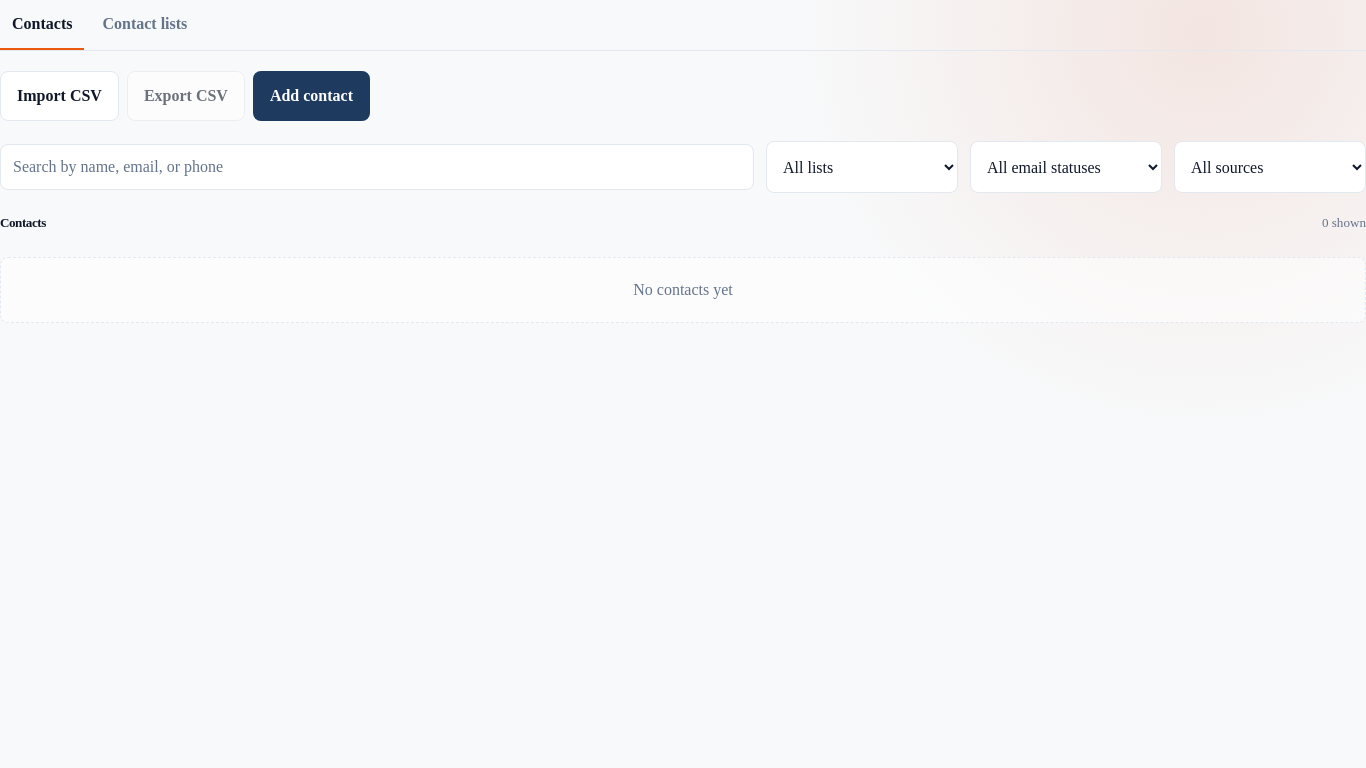
ContactsPage list synchronization (#168) › updates list count and rows immediately after creating a contact without manual reload
The width and height of the screenshot is (1366, 768).
Expected: the text "0 shown" is shown, [1322,213,1365,233]
Expected: the text "No contacts yet" is shown, [0,257,1365,323]
Step 1. Click the button "Add contact" → (311, 96), box [253,71,370,121]
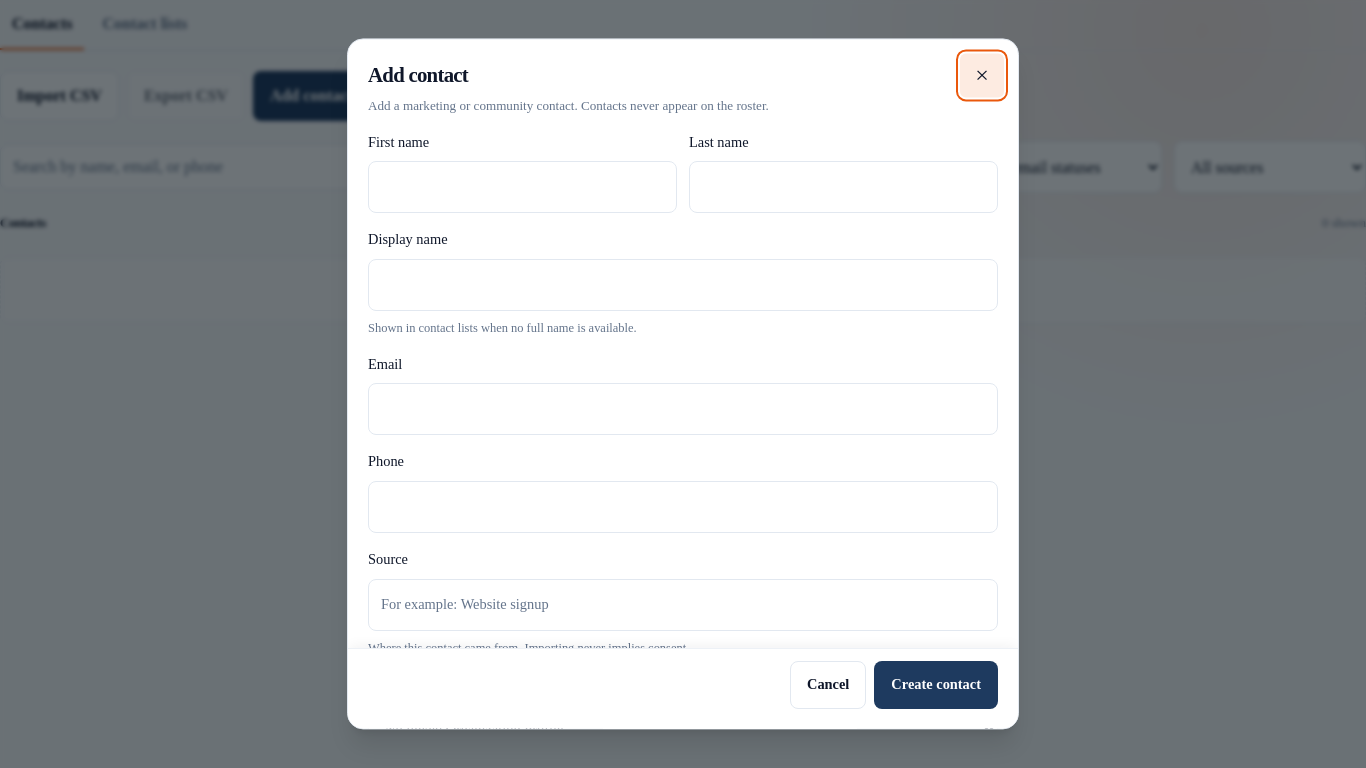
Expected: the dialog "Add contact" is shown, [347,38,1019,730]
Step 2. Type "Alice" into the field labelled "First name" → (522, 188), box [368,162,677,214]
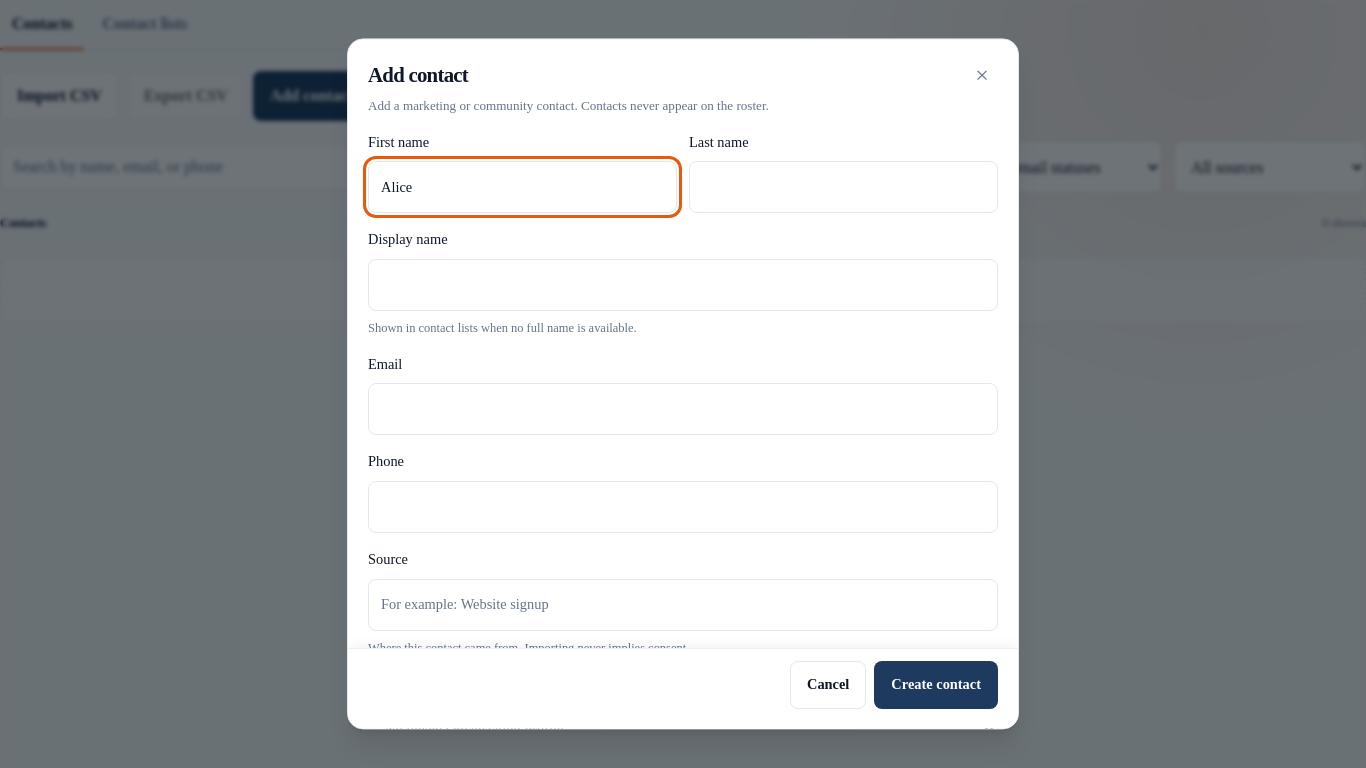
Step 3. Type "Allison" into the field labelled "Last name" → (844, 188), box [689,162,998,214]
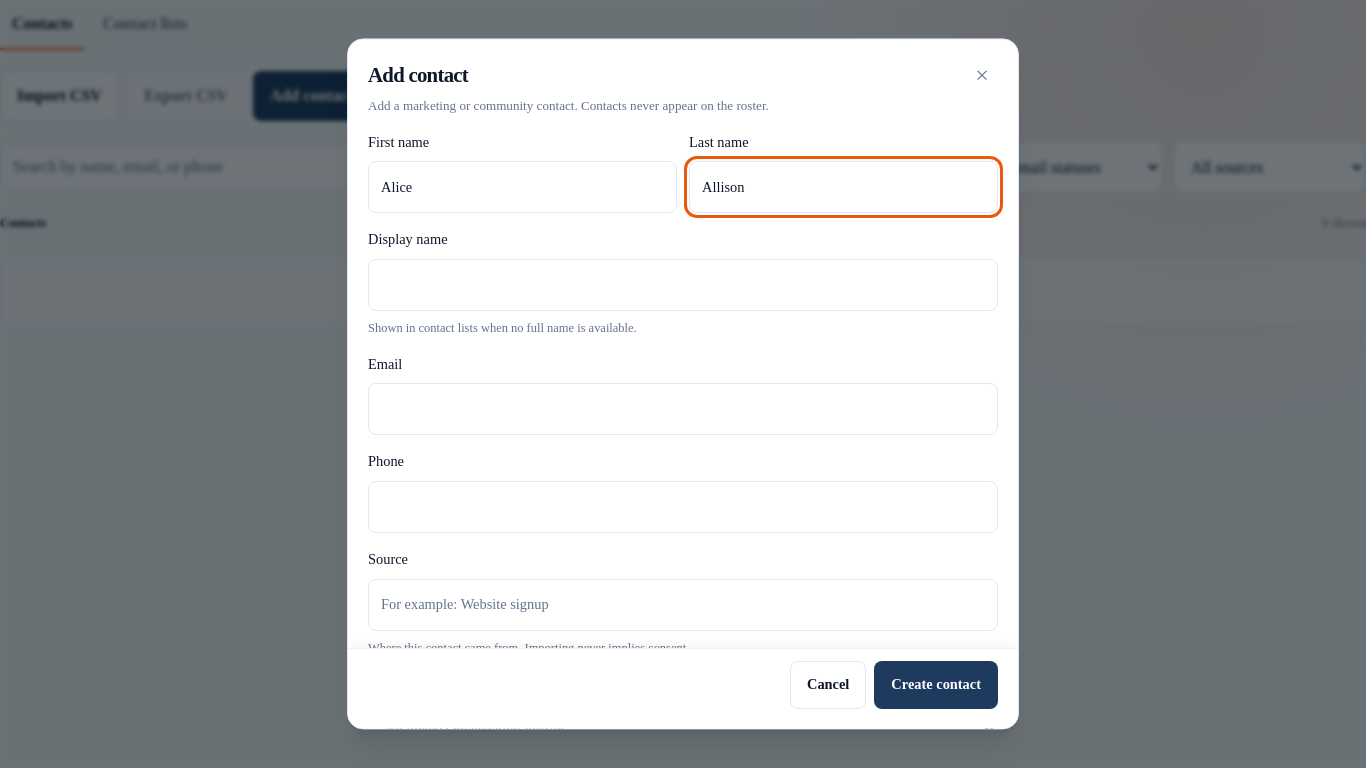
Step 4. Type "alice@example.com" into the field labelled "Email" → (683, 410), box [368,384,998,436]
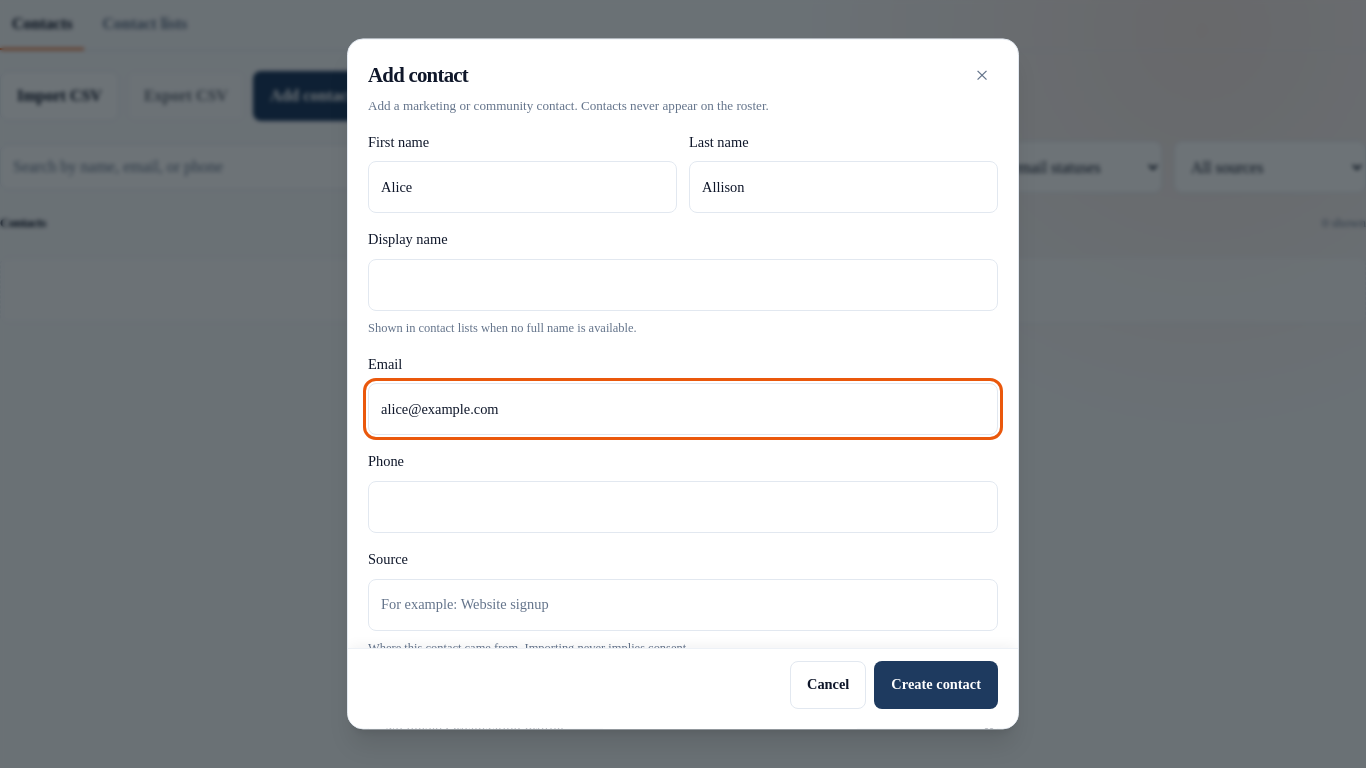
Step 5. Click the button "Create contact" → (936, 685), box [874,661,998,709]
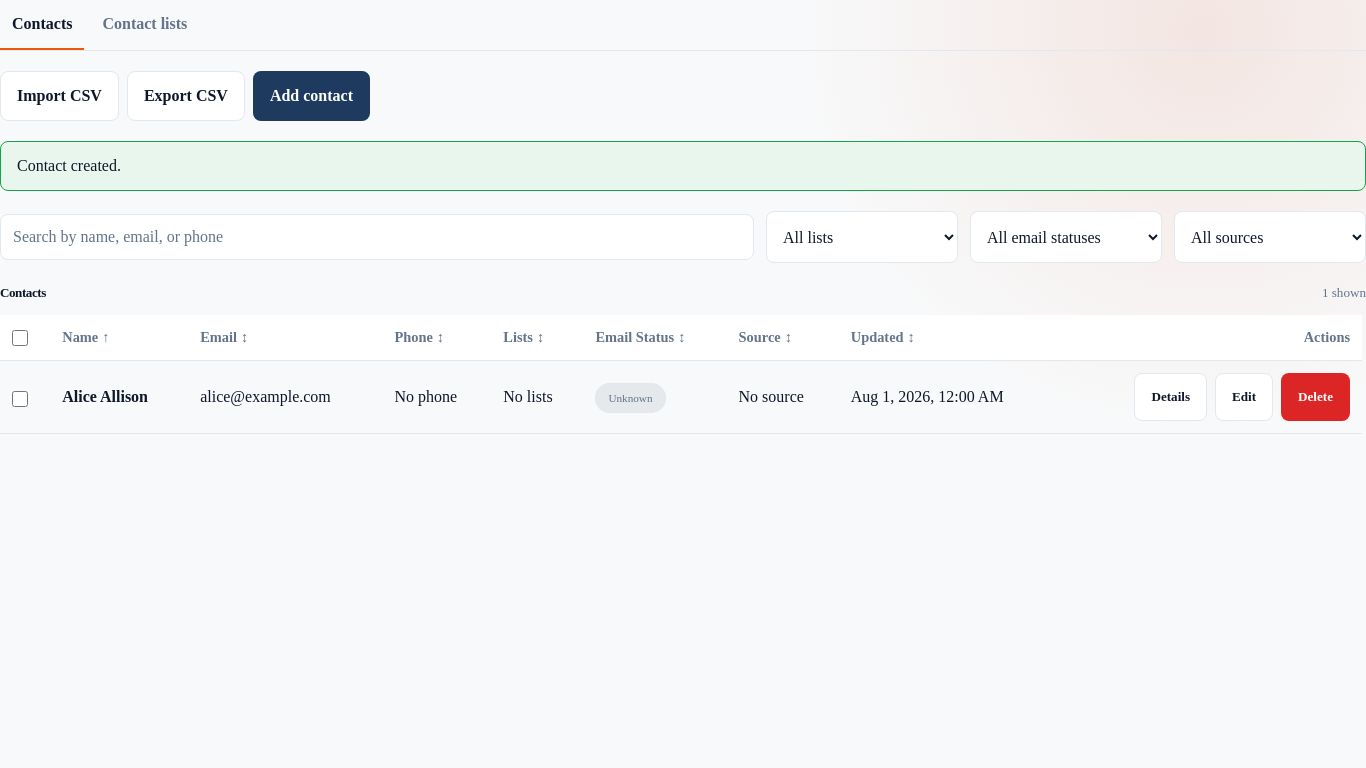
Expected: the dialog is gone
Expected: the text "Contact created." is shown, [0,141,1365,191]
Expected: the text "1 shown" is shown, [1322,283,1365,303]
